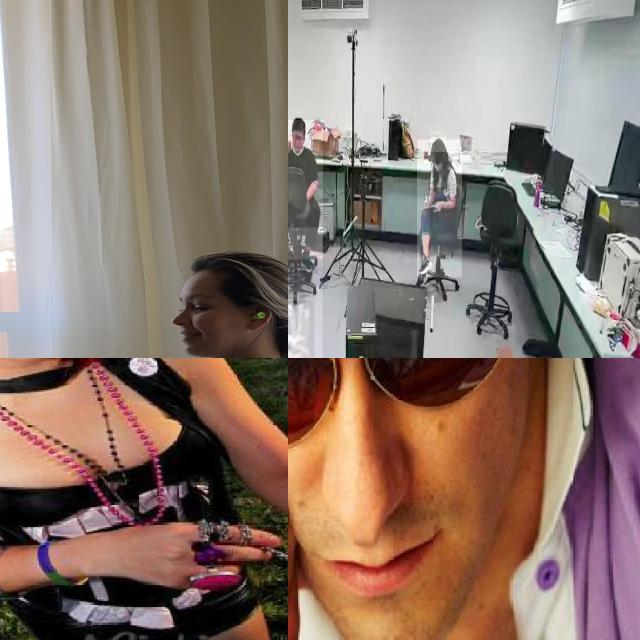face_nomask: (288, 358, 520, 609), (292, 129, 304, 151)
glasses: (288, 358, 552, 454)
hand_glove: (288, 300, 314, 358)
hand_noglove: (108, 506, 284, 600), (422, 194, 432, 209), (433, 199, 443, 211)
head_nohelmet: (431, 137, 446, 153), (291, 116, 305, 130)
person: (0, 358, 288, 640), (417, 140, 463, 278), (288, 120, 323, 259)
shoes: (416, 247, 433, 277), (300, 244, 314, 273), (288, 241, 295, 275)
